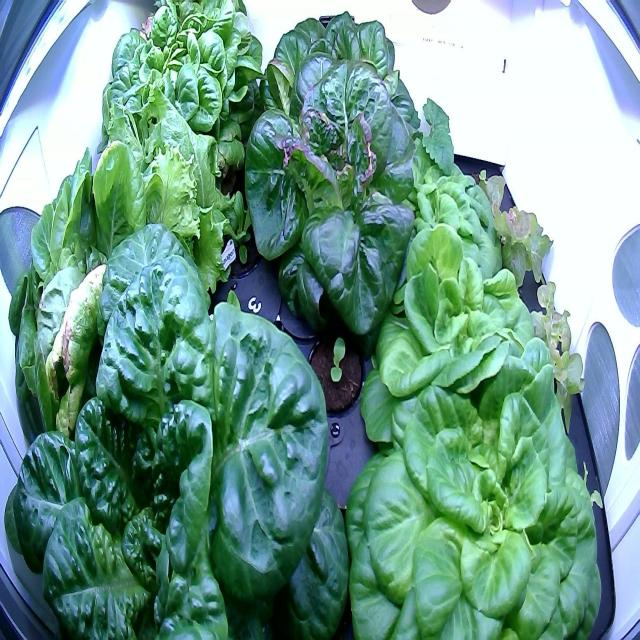Ready: (0, 215, 352, 639), (233, 49, 434, 345), (1, 132, 168, 448), (243, 5, 434, 215), (94, 0, 268, 194)
germination: (298, 319, 369, 424), (459, 153, 506, 217)
young: (338, 332, 608, 640), (349, 217, 580, 453), (357, 130, 514, 310), (200, 178, 268, 288)
